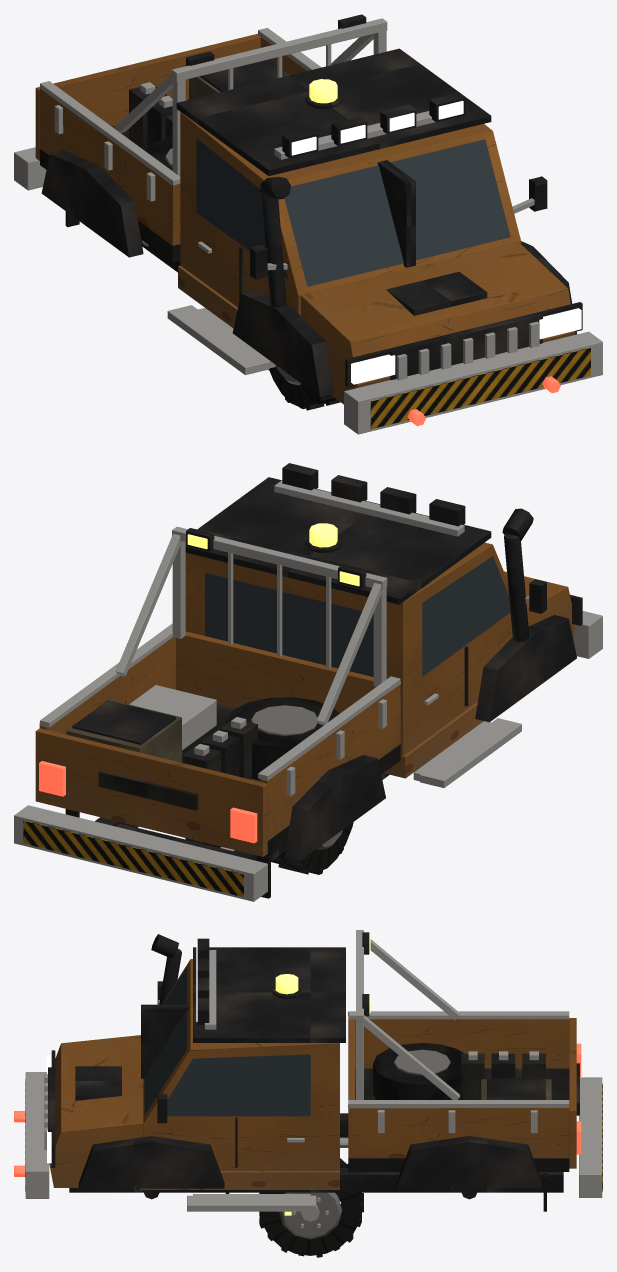
File: utility-vehicle.glb
3 renders of one model, top to bottom at view 1: azimuth 30°, elevation 25°; view 2: azimuth 150°, elevation 25°; view 3: azimuth 270°, elevation 25°, orthographic. The views are drawn at different scales.
Parts seen in each view (by area): view 1: body, wheel_FL; view 2: body, wheel_RL, wheel_FL; view 3: body, wheel_FR, wheel_FL, wheel_RR.
Part boxes in pixels (left/top/right/bottom): body: left=14, top=14, right=602, bottom=434; wheel_FL: left=268, top=365, right=340, bottom=410; body: left=14, top=463, right=602, bottom=901; wheel_RL: left=271, top=822, right=353, bottom=874; wheel_FL: left=271, top=827, right=347, bottom=873; body: left=14, top=930, right=602, bottom=1211; wheel_FR: left=259, top=1158, right=363, bottom=1257; wheel_FL: left=259, top=1164, right=362, bottom=1255; wheel_RR: left=260, top=1159, right=363, bottom=1255.
Bounding box in the file's own units: 2.38 × 2.65 × 5.
12 materials, 6 textured.
